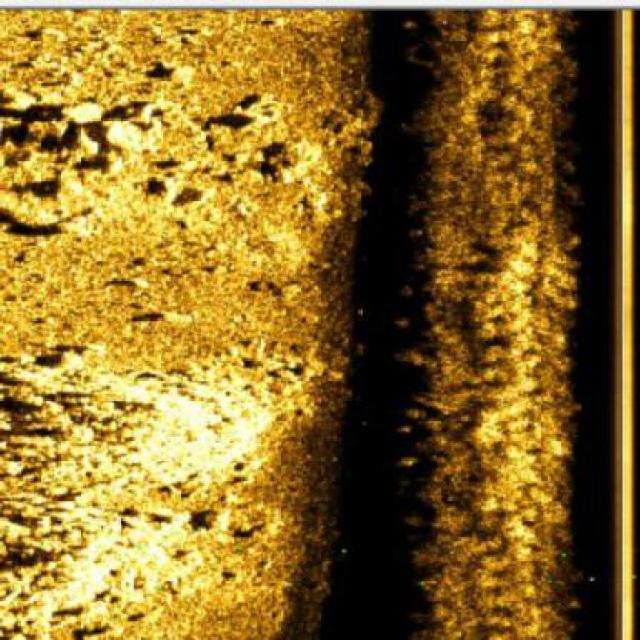bedrock group: (0, 347, 323, 639), (1, 9, 344, 232)
